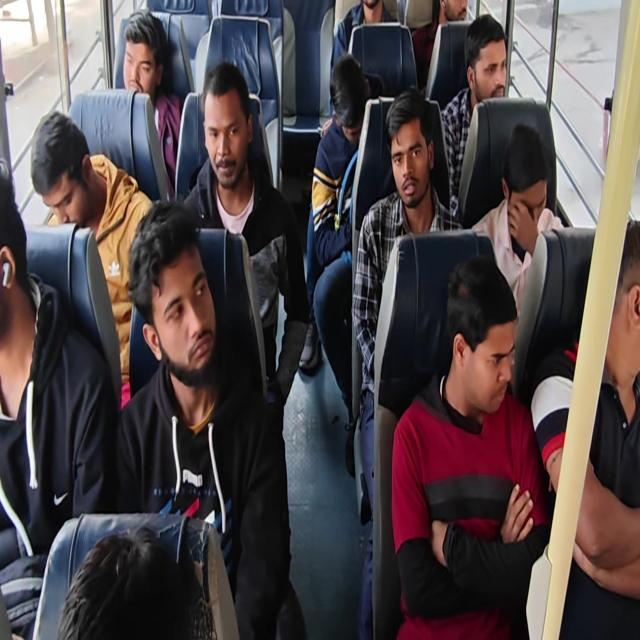person: (132, 194, 218, 420), (70, 507, 212, 640), (449, 264, 528, 436), (29, 99, 96, 258), (378, 90, 450, 217), (496, 120, 570, 238), (196, 64, 257, 189), (0, 186, 49, 325), (117, 0, 174, 113), (454, 19, 521, 114), (608, 205, 640, 385), (322, 53, 373, 153), (353, 0, 399, 24), (433, 0, 486, 18)
